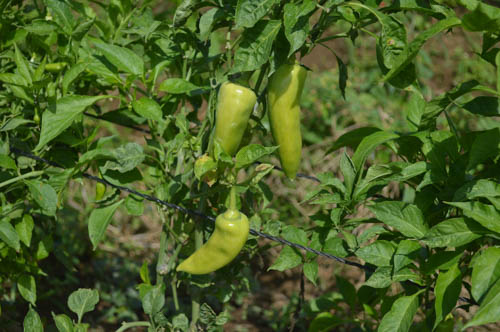ChiliPepper: (263, 65, 307, 178), (174, 216, 255, 271), (214, 83, 255, 171)
